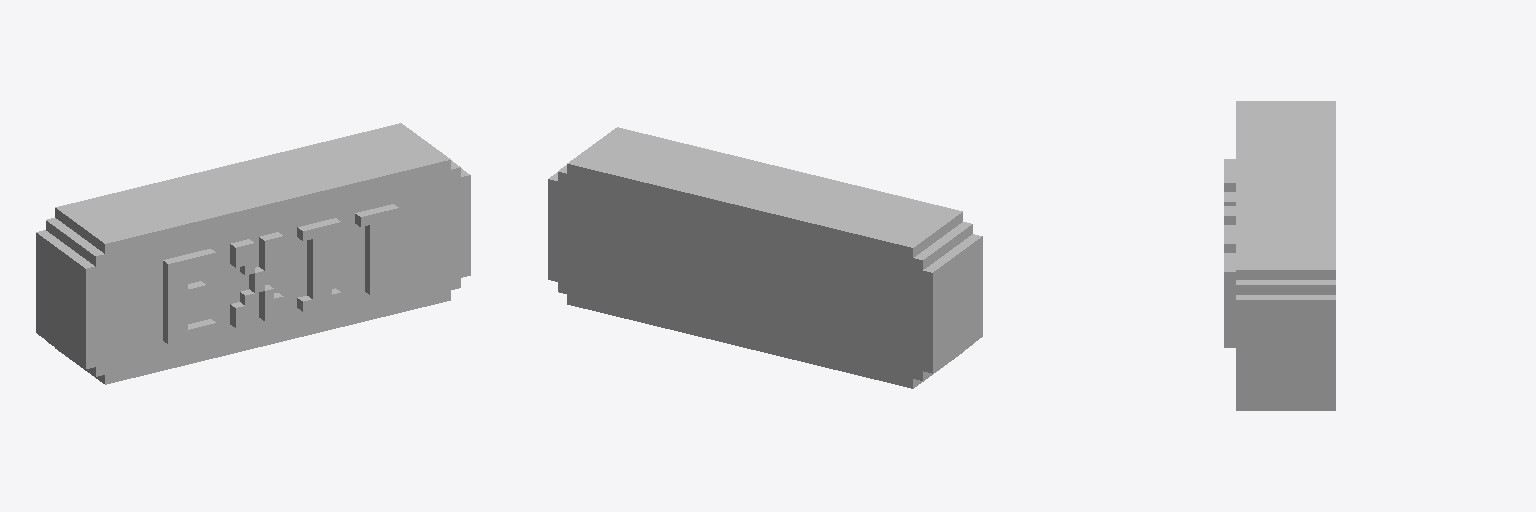
The model's file is Exit.obj.
3 views of the same model, side by side, from view 1: azimuth 30°, elevation 25°; view 2: azimuth 150°, elevation 25°; view 3: azimuth 270°, elevation 25° (orthographic).
Parts seen in each view (by area): view 1: object 1; view 2: object 1; view 3: object 1.
Part boxes in pixels (left/top/right/bottom): object 1: left=36, top=123, right=470, bottom=384; object 1: left=548, top=127, right=982, bottom=388; object 1: left=1224, top=101, right=1335, bottom=410.
Bounding box in the file's own units: 4 × 1.4 × 1.